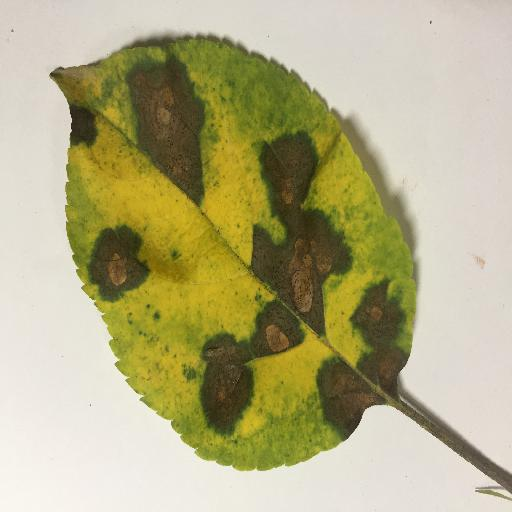Brown_Spot: (122, 76, 198, 197), (263, 235, 336, 313), (87, 218, 146, 298), (201, 338, 258, 419), (255, 145, 315, 213), (320, 361, 389, 419), (350, 291, 402, 336), (58, 112, 95, 150)
